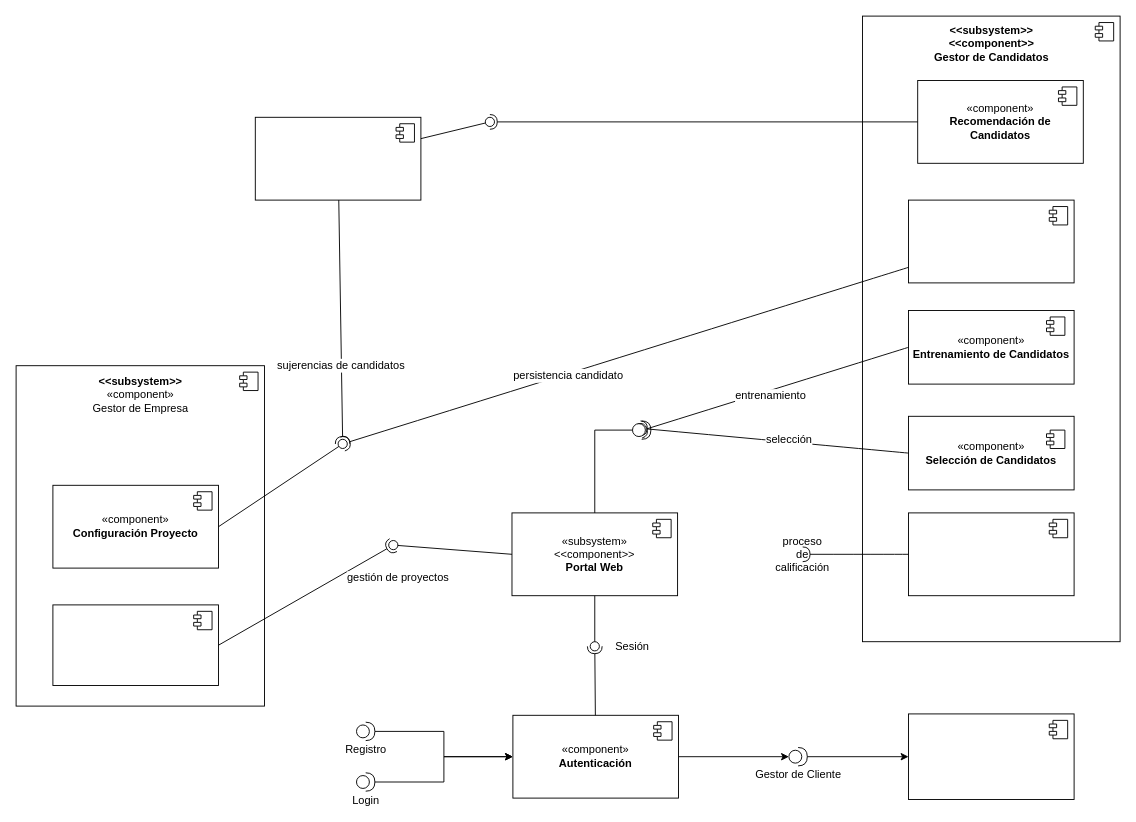
Image size: 1136x822. Some labels were removed from this diagram. The centre of each missing label's shape, as x and y in pixels:
"<<component>> Gestor de Cliente" goes at pixel 991 756.
"«component» Clasificación de Candidatos" goes at pixel 991 554.
"«component» Gestor de Proyectos" goes at pixel 135 644.
"«component» Motor de Emparejamiento" goes at pixel 337 158.
"«component» Persistencia Candidatos" goes at pixel 991 241.
